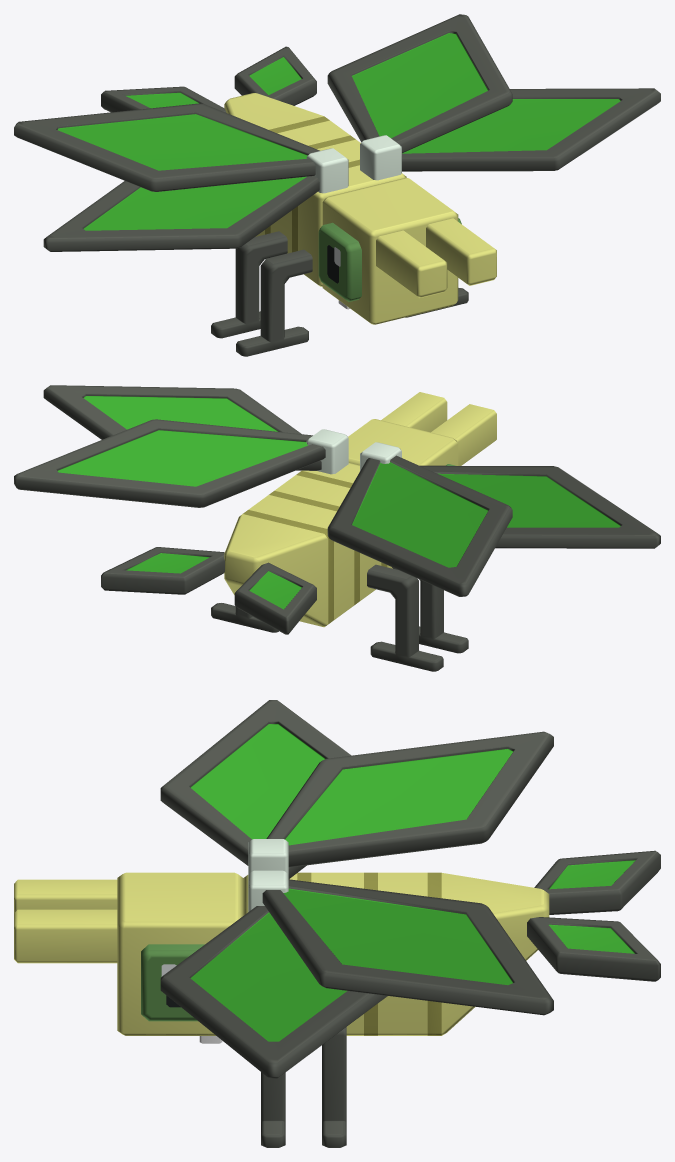
3 renders of one model, top to bottom at view 1: azimuth 30°, elevation 25°; view 2: azimuth 150°, elevation 25°; view 3: azimuth 270°, elevation 25°, orthographic. The views are drawn at different scales.
Parts seen in each view (by area): view 1: 0329_vibrava; view 2: 0329_vibrava; view 3: 0329_vibrava.
Boxes of the visible parts, bbox=[...] form: 0329_vibrava: bbox=[14, 14, 660, 356]; 0329_vibrava: bbox=[14, 385, 660, 671]; 0329_vibrava: bbox=[14, 700, 660, 1147].
Size of the model in its own units: 4.06 by 1.14 by 3.04.
Materials: 1 (1 with a texture image).
